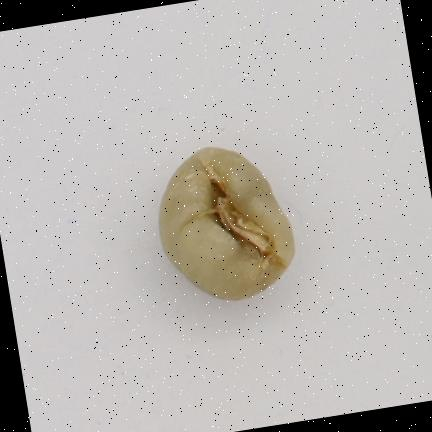husk: (159, 148, 294, 299)
